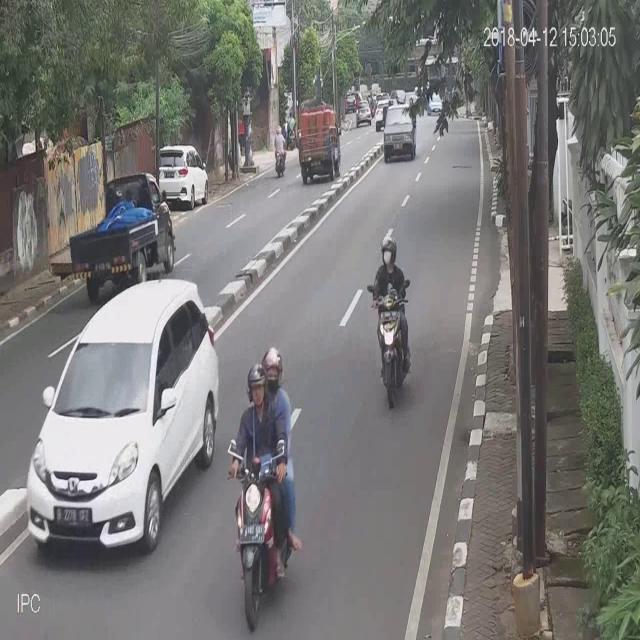bus: (228, 343, 300, 632), (368, 236, 412, 414), (272, 121, 286, 179)
motorcycle: (26, 278, 218, 556), (155, 143, 209, 211), (382, 100, 416, 160)
truck: (68, 172, 175, 298), (297, 102, 341, 183)
